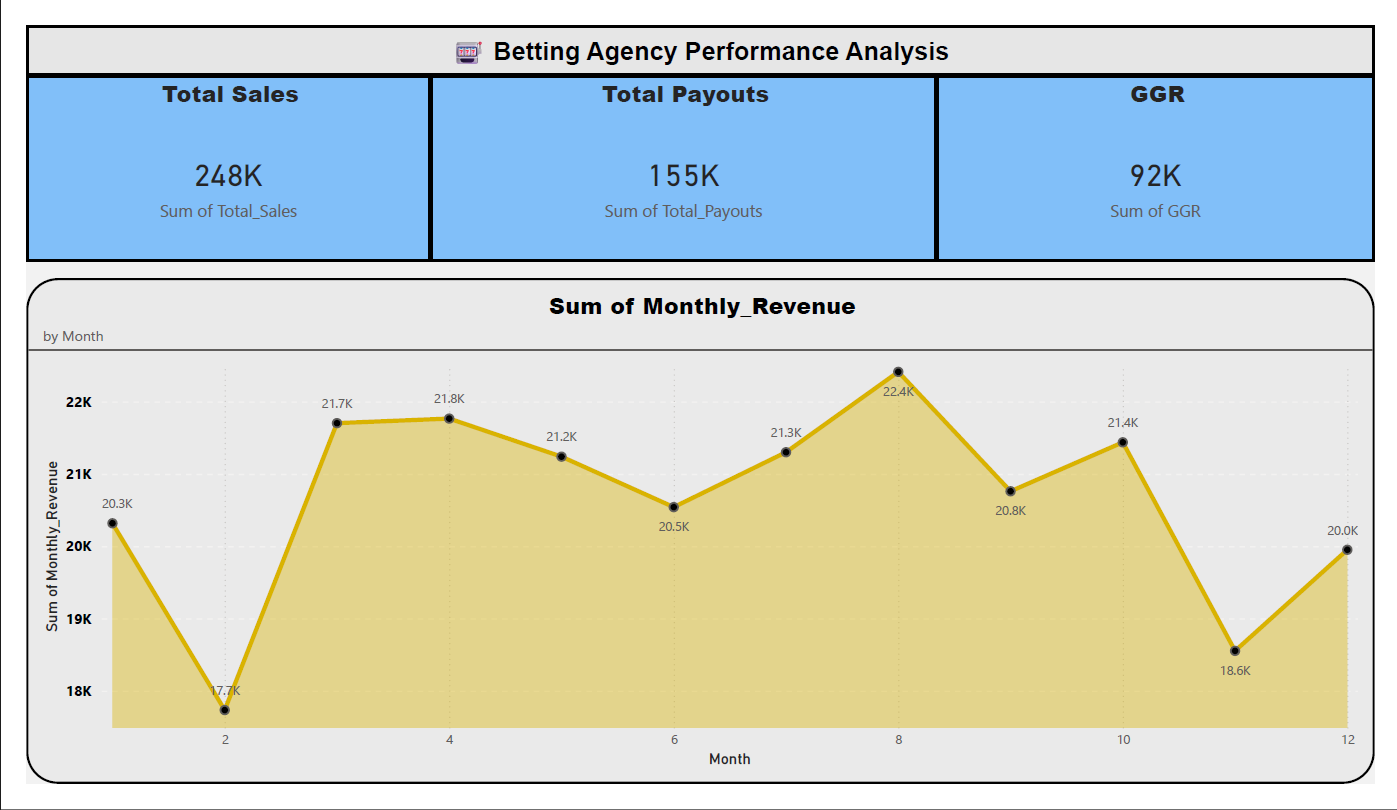

The dashboard page shown, as its layout file describes it:
{"tool":"powerbi","page":{"name":"Main","canvas":[1280,720],"ordinal":0},"visuals":[{"type":"card","title":"Total Sales","fields":{"Values":["Sum(total_sales_payouts_ggr.Total_Sales)"]},"box":[0,48,384,176],"z":0},{"type":"card","title":"Total Payouts","fields":{"Values":["Sum(total_sales_payouts_ggr.Total_Payouts)"]},"box":[384,48,480,176],"z":1000},{"type":"card","title":"GGR","fields":{"Values":["Sum(total_sales_payouts_ggr.GGR)"]},"box":[864,48,416,176],"z":2000},{"type":"lineChart","fields":{"Category":["monthly_revenue.Month"],"Y":["Sum(monthly_revenue.Monthly_Revenue)"]},"box":[0,240,1280,480],"z":3000},{"type":"textbox","box":[0,0,1280,48],"z":4000}]}

Visuals, with their boxes in screenshot pixels (x1, y1, x2, y2), scaled from the page's 1280x720 canvas onto the 1397x810 screenshot:
"Total Sales" card: (0,54,419,252)
"Total Payouts" card: (419,54,943,252)
"GGR" card: (943,54,1396,252)
lineChart - monthly_revenue.Month x Sum(monthly_revenue.Monthly_Revenue): (0,270,1396,809)
textbox: (0,0,1396,54)
